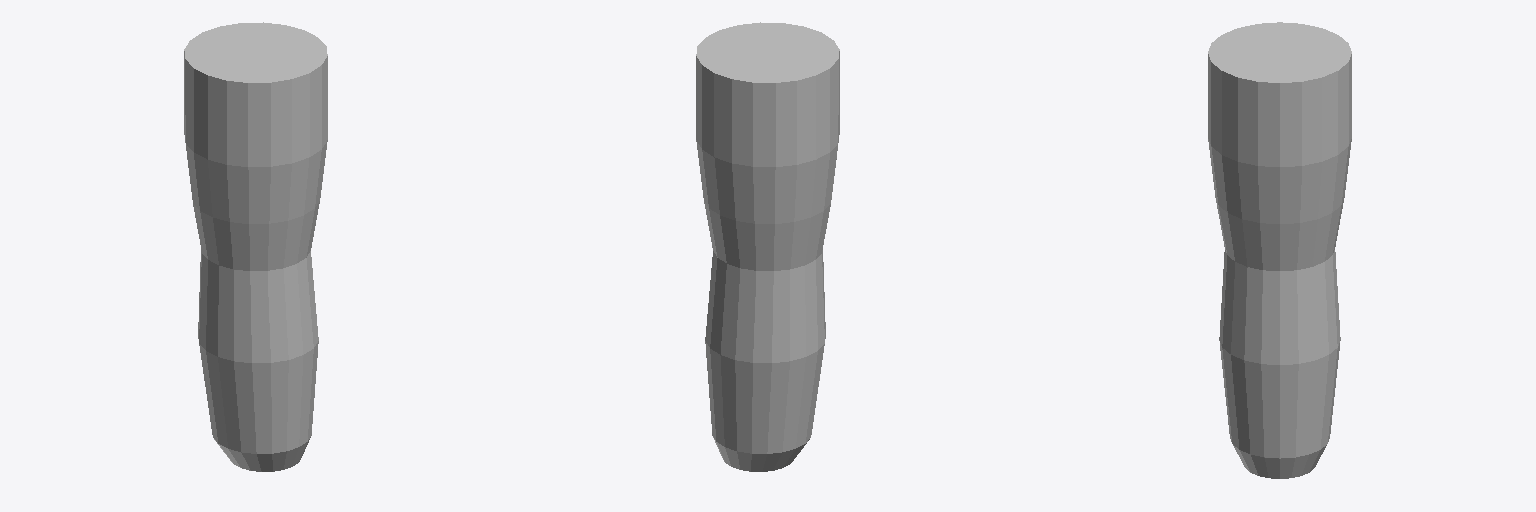
Rendered from player_Rleg.obj.
3 renders of one model, left to right at view 1: azimuth 30°, elevation 25°; view 2: azimuth 150°, elevation 25°; view 3: azimuth 270°, elevation 25°, orthographic.
Parts seen in each view (by area): view 1: pCylinder1; view 2: pCylinder1; view 3: pCylinder1.
Boxes of the visible parts, x1,y1,x2,y2 form: pCylinder1: [184, 22, 327, 471]; pCylinder1: [696, 22, 839, 471]; pCylinder1: [1208, 22, 1351, 478].
Size of the model in its own units: 1.12 by 3.48 by 1.12.